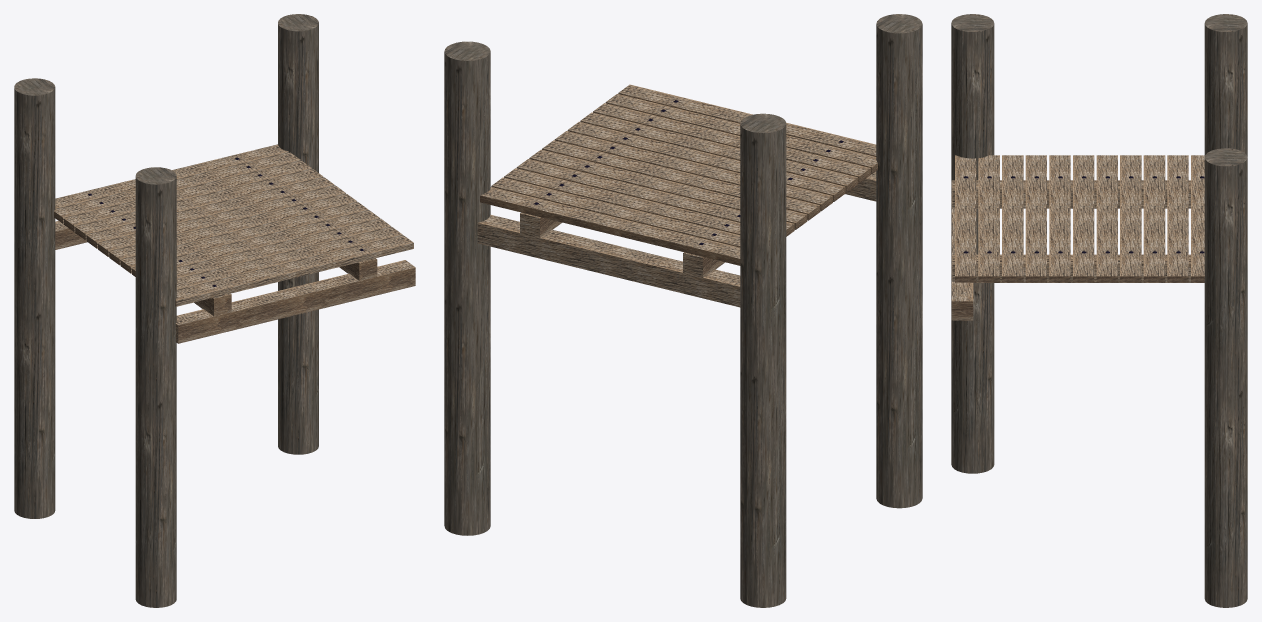
File: maderas.fbx
3 views of the same model, side by side, from view 1: azimuth 30°, elevation 25°; view 2: azimuth 150°, elevation 25°; view 3: azimuth 270°, elevation 25° (orthographic). The views are drawn at different scales.
Parts seen in each view (by area): view 1: soporte, piso madera, poste, viga madera; view 2: soporte, piso madera, poste; view 3: piso madera, soporte, poste, viga madera.
Boxes of the visible parts, x1,y1,x2,y2 form: soporte: (14,14,318,518); piso madera: (54,144,413,316); poste: (135,167,176,607); viga madera: (175,260,415,343); soporte: (444,41,786,607); piso madera: (480,84,877,278); poste: (876,14,922,508); piso madera: (952,155,1204,282); soporte: (1204,14,1247,607); poste: (951,14,994,473); viga madera: (951,180,973,320).
Bounding box in the file's own units: 504 × 681 × 414.
3 materials, 2 textured.
